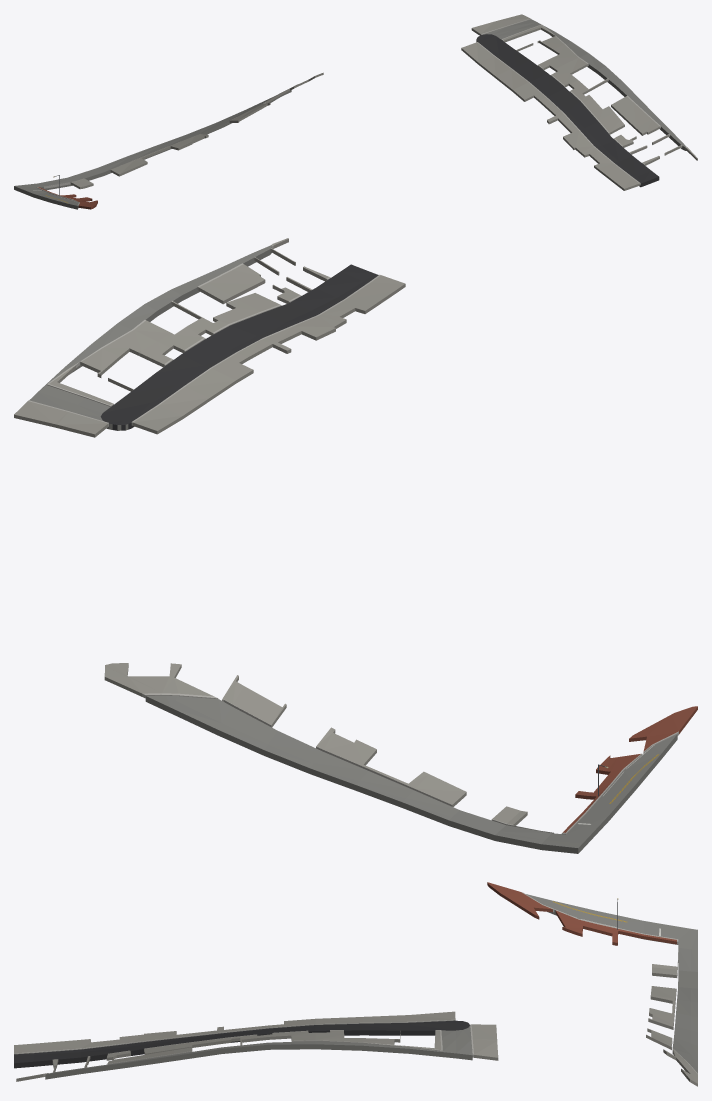
Rendered from 18-218881-118939.3bdc6621.glb.
3 views of the same model, one above another, from view 1: azimuth 30°, elevation 25°; view 2: azimuth 150°, elevation 25°; view 3: azimuth 270°, elevation 25° (orthographic). The views are drawn at different scales.
Size of the model in its own units: 147 by 44.22 by 146.
